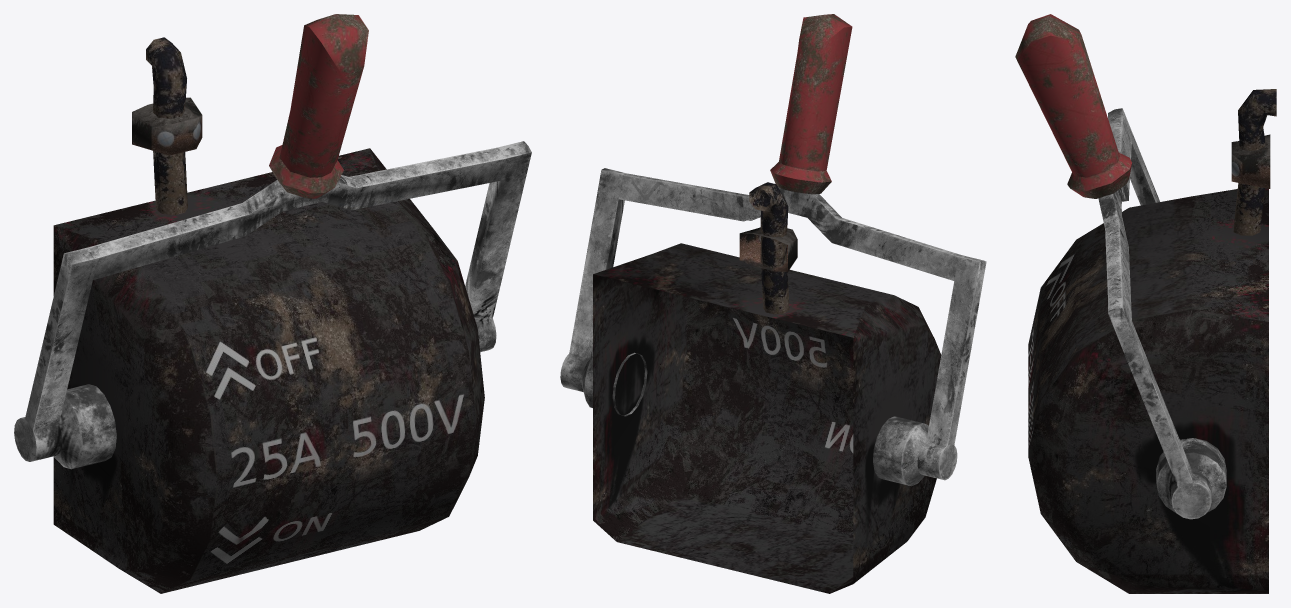
The model's file is switchHandler.fbx.
The picture shows the model from 3 angles, left to right: view 1: azimuth 30°, elevation 25°; view 2: azimuth 150°, elevation 25°; view 3: azimuth 270°, elevation 25°; orthographic projection. The views are drawn at different scales.
Visible parts, largest first — view 1: body, handler; view 2: body, handler; view 3: body, handler.
Boxes of the visible parts, x1=… form: body: x1=53, y1=37, x2=484, y2=593; handler: x1=14, y1=14, x2=531, y2=469; body: x1=593, y1=182, x2=941, y2=593; handler: x1=560, y1=14, x2=986, y2=486; body: x1=1028, y1=89, x2=1276, y2=593; handler: x1=1015, y1=14, x2=1226, y2=519.
Bounding box in the file's own units: 58.17 × 70.31 × 32.03.
